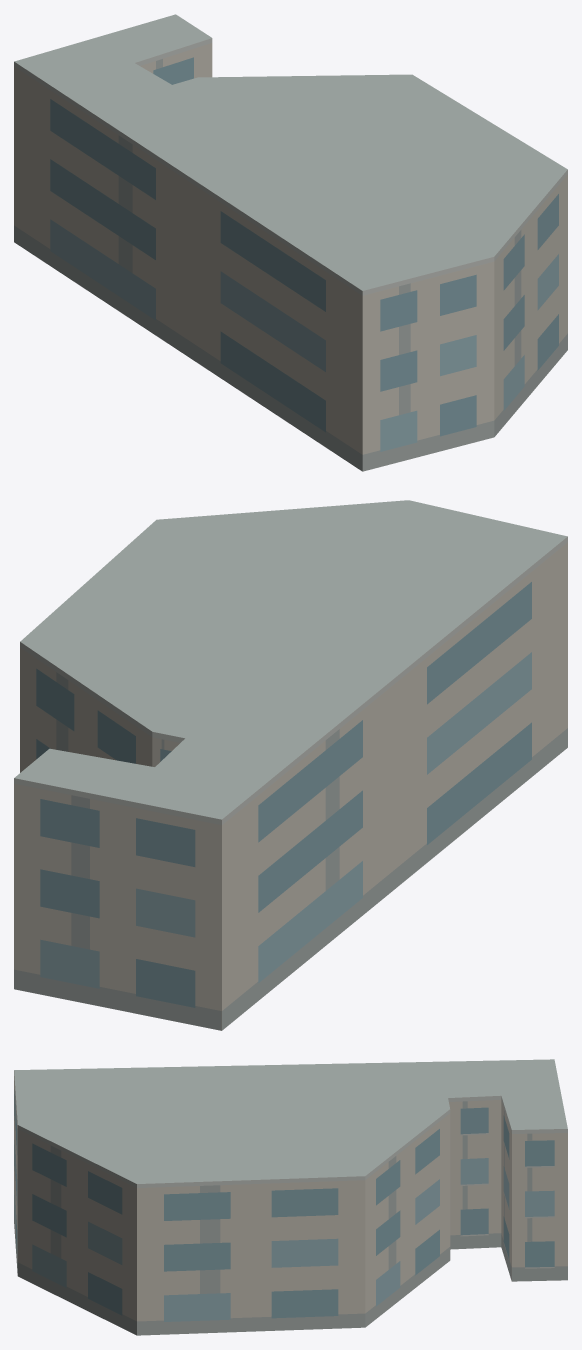
The model's file is survey-upis-32461673.glb.
The picture shows the model from 3 angles, top to bottom: view 1: azimuth 30°, elevation 25°; view 2: azimuth 150°, elevation 25°; view 3: azimuth 270°, elevation 25°; orthographic projection. The views are drawn at different scales.
Visible parts, largest first — view 1: survey-upis-32461673.tmp; view 2: survey-upis-32461673.tmp; view 3: survey-upis-32461673.tmp.
Boxes of the visible parts, x1=… form: survey-upis-32461673.tmp: x1=14, y1=14, x2=567, y2=471; survey-upis-32461673.tmp: x1=14, y1=500, x2=567, y2=1030; survey-upis-32461673.tmp: x1=14, y1=1059, x2=567, y2=1335.
Bounding box in the file's own units: 16.17 × 9.15 × 30.33.
